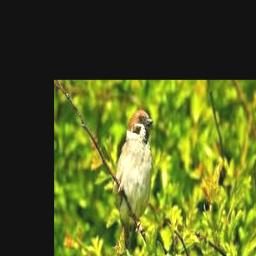Sparrow: (114, 110, 153, 256)
